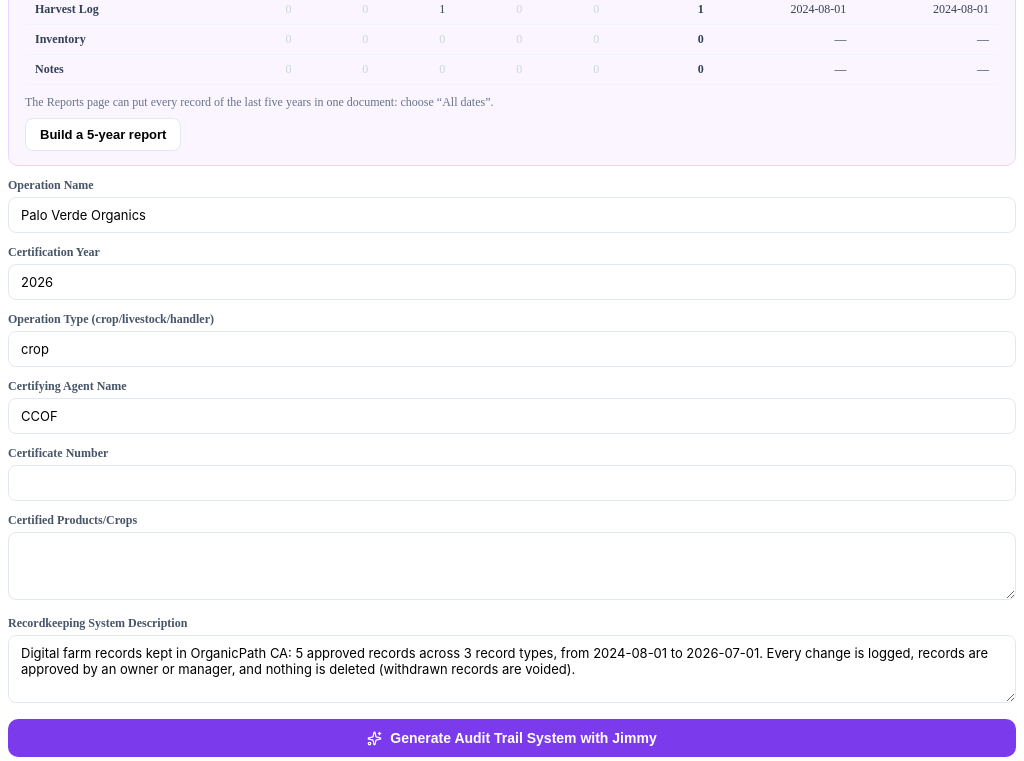
Test: AuditTrailForm: writing the document › shows a failure as an alert beside the draft, never inside it, and does not let half a draft be saved
(page scrolled)
Click the button "Generate Audit Trail System with Jimmy" at point(512, 738), box top-left (8, 719), bottom-right (1016, 757)
(page scrolled)
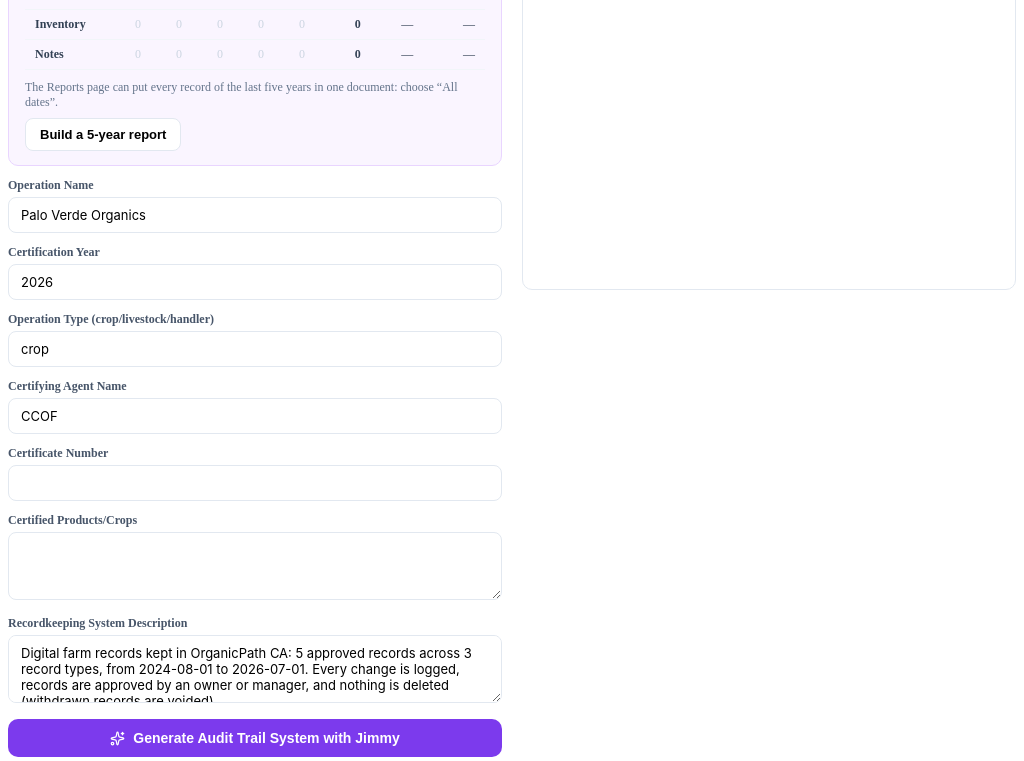
Click the button "Generate Audit Trail System with Jimmy" at point(255, 738), box top-left (8, 719), bottom-right (502, 757)
(page scrolled)
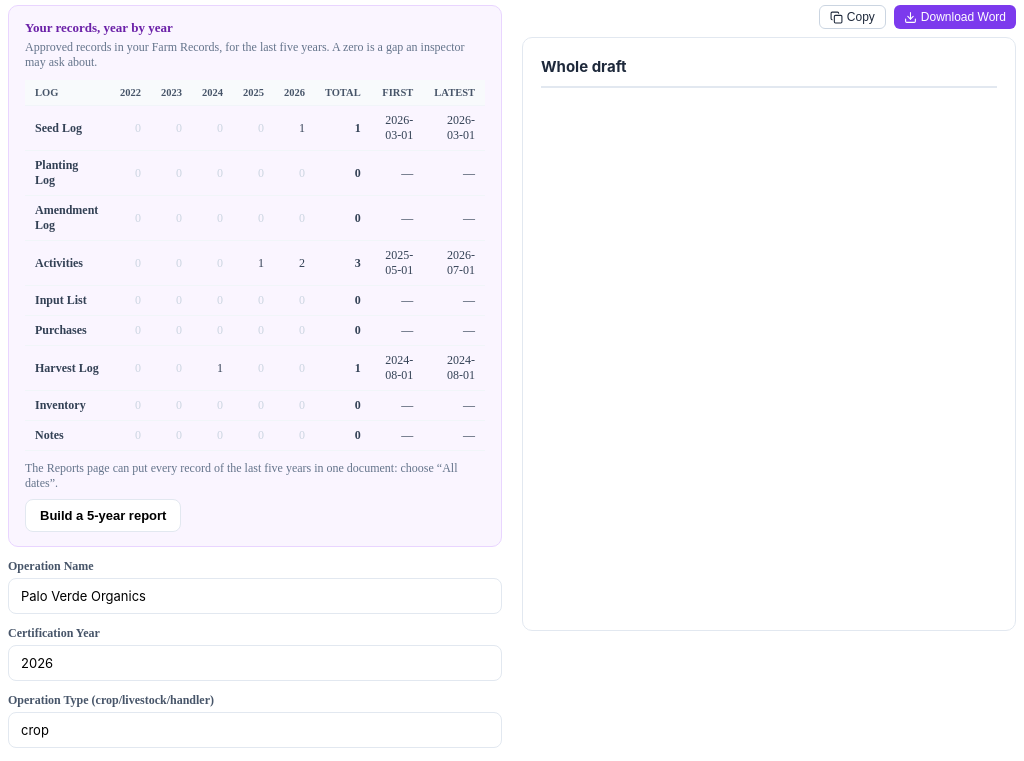
Now the heading "Whole draft" is shown, box top-left (541, 54), bottom-right (997, 88)
Now the button "Download Word" is enabled, box top-left (894, 5), bottom-right (1016, 29)
